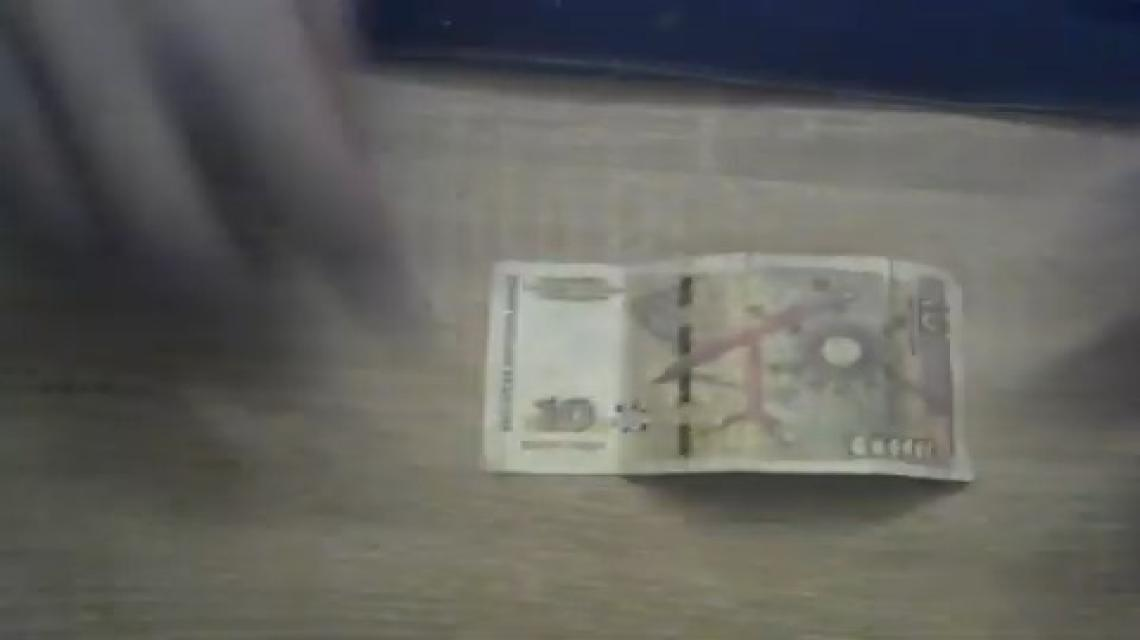10leva: (477, 254, 969, 484)
